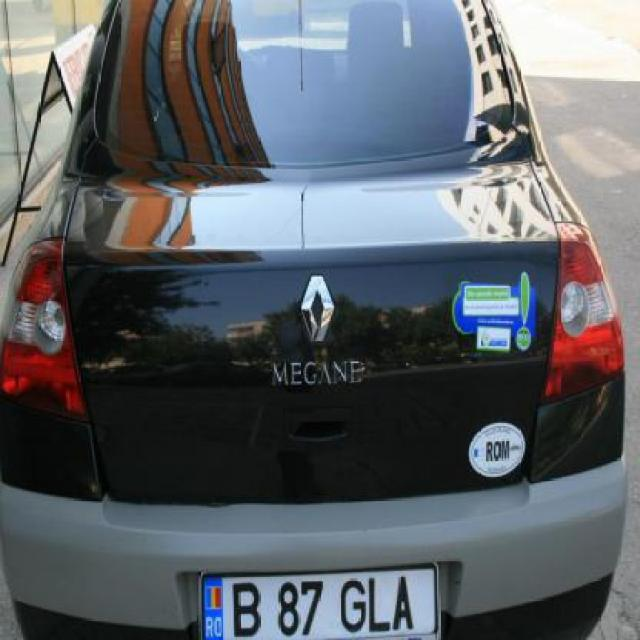License-Plates: (200, 558, 440, 640)
